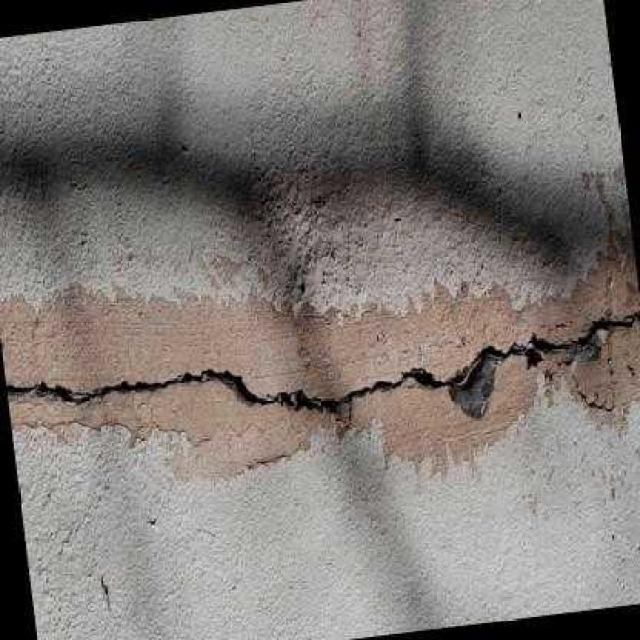D00: (5, 309, 640, 410)
